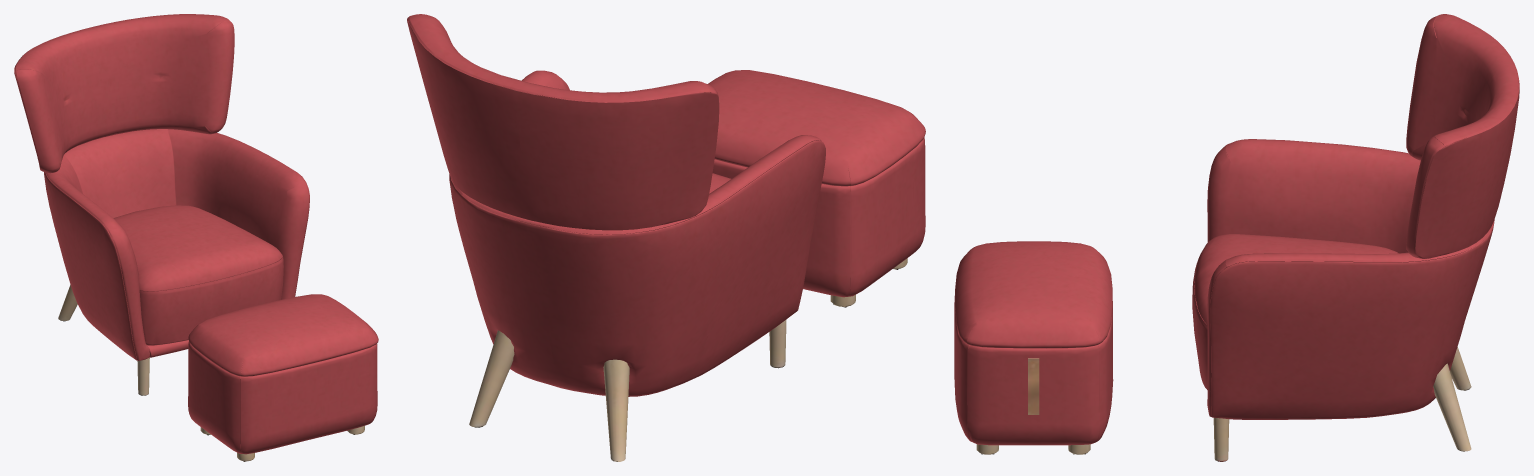
Rendered from oskarshamn_fotel_uszak_z_podnozkiem_99485343.glb.
3 views of the same model, side by side, from view 1: azimuth 30°, elevation 25°; view 2: azimuth 150°, elevation 25°; view 3: azimuth 270°, elevation 25° (orthographic). The views are drawn at different scales.
Visible parts, largest first — view 1: oskarshamn_fotel_uszak_z_podnozkiem_99485343; view 2: oskarshamn_fotel_uszak_z_podnozkiem_99485343; view 3: oskarshamn_fotel_uszak_z_podnozkiem_99485343.
Part boxes in pixels (x1,y1,x2,y2): oskarshamn_fotel_uszak_z_podnozkiem_99485343: [14, 14, 378, 461]; oskarshamn_fotel_uszak_z_podnozkiem_99485343: [407, 14, 925, 461]; oskarshamn_fotel_uszak_z_podnozkiem_99485343: [954, 14, 1519, 461].
Size of the model in its own units: 0.831 by 0.9902 by 1.48.
Materials: 1 (1 with a texture image).
